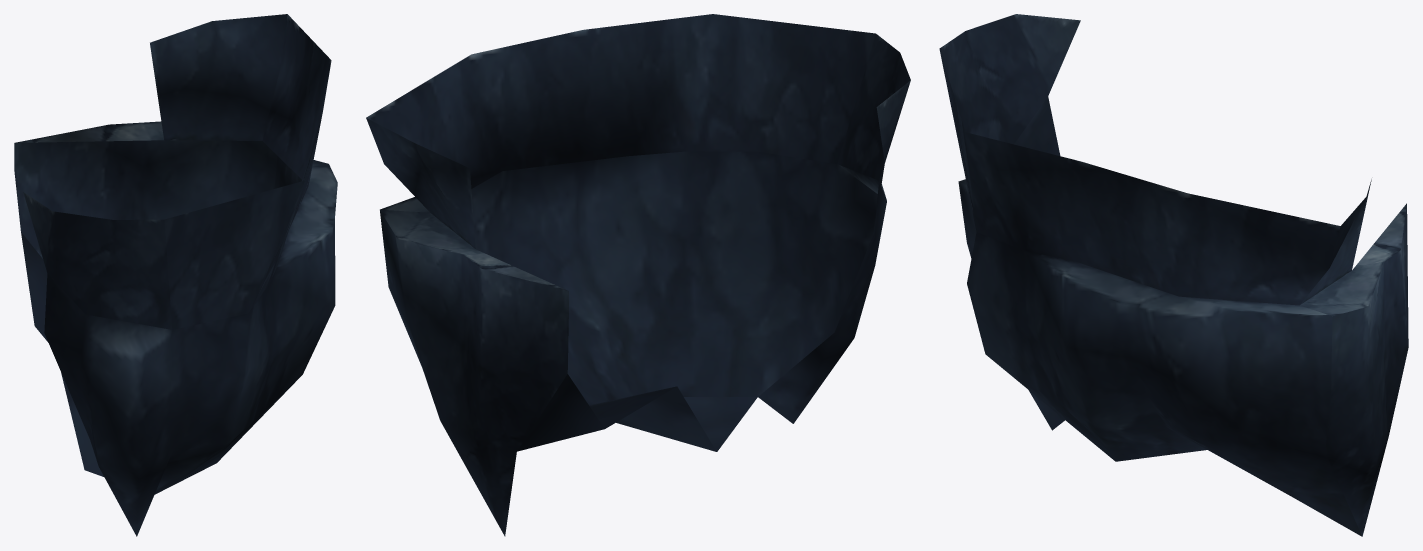
Rendered from Area_04_5.fbx.
3 renders of one model, left to right at view 1: azimuth 30°, elevation 25°; view 2: azimuth 150°, elevation 25°; view 3: azimuth 270°, elevation 25°, orthographic. The views are drawn at different scales.
Visible parts, largest first — view 1: Area_04_5; view 2: Area_04_5; view 3: Area_04_5.
Part boxes in pixels (<box>): Area_04_5: <box>14,14,337,536</box>; Area_04_5: <box>366,14,910,536</box>; Area_04_5: <box>939,14,1408,536</box>.
Size of the model in its own units: 5276 by 5119 by 5373.
